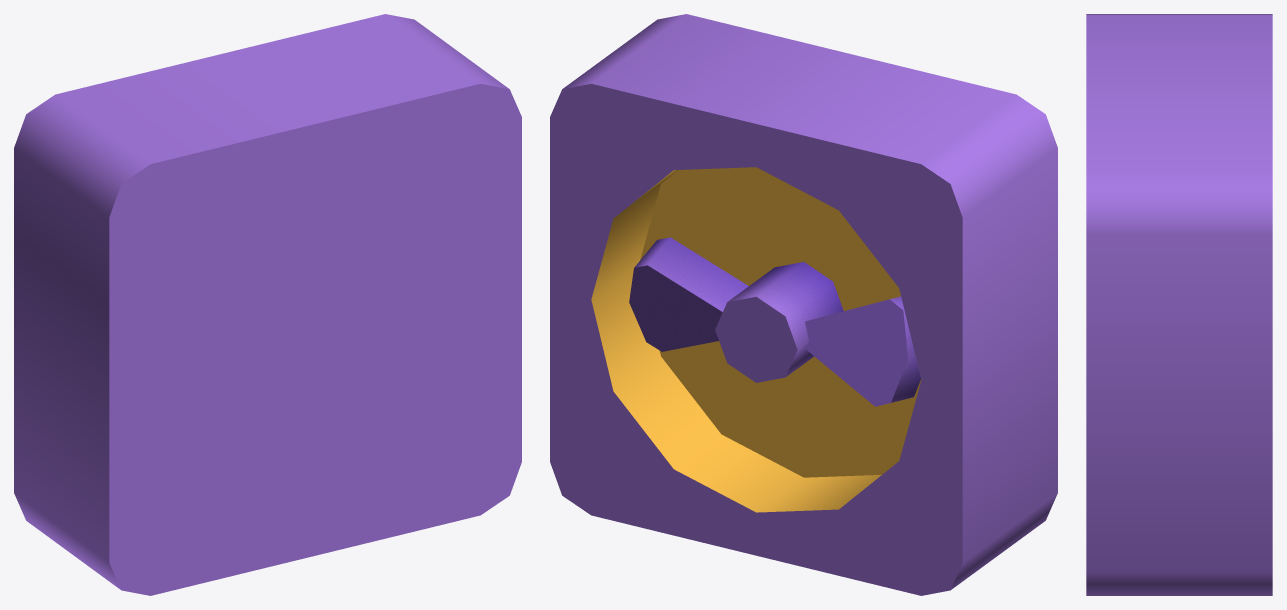
The model's file is fan-standing-two.glb.
The picture shows the model from 3 angles, left to right: view 1: azimuth 30°, elevation 25°; view 2: azimuth 150°, elevation 25°; view 3: azimuth 270°, elevation 25°; orthographic projection. The views are drawn at different scales.
Visible parts, largest first — view 1: fan-standing-two; view 2: fan-standing-two, fan; view 3: fan-standing-two.
Boxes of the visible parts, x1,y1,x2,y2 form: fan-standing-two: (14,14,521,595); fan-standing-two: (550,14,1057,595); fan: (629,237,920,406); fan-standing-two: (1086,14,1272,595).
Size of the model in its own units: 1 by 1 by 0.4.
1 material, 1 textured.
